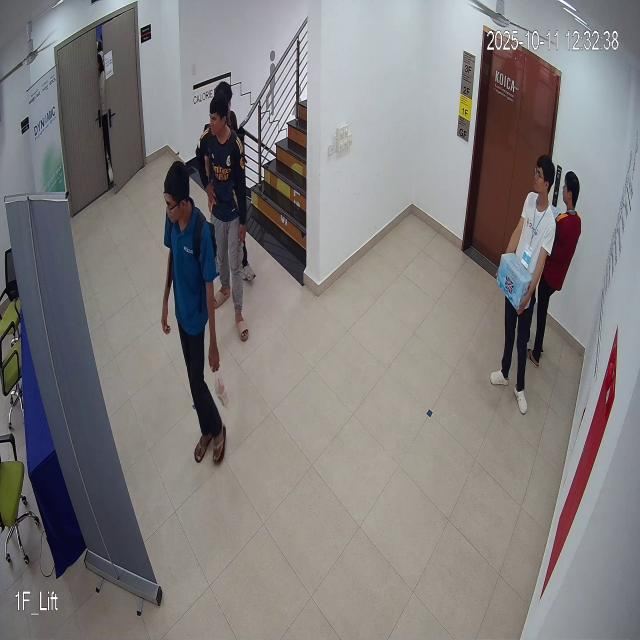face: (159, 154, 194, 236), (532, 155, 557, 199), (209, 94, 229, 139)
